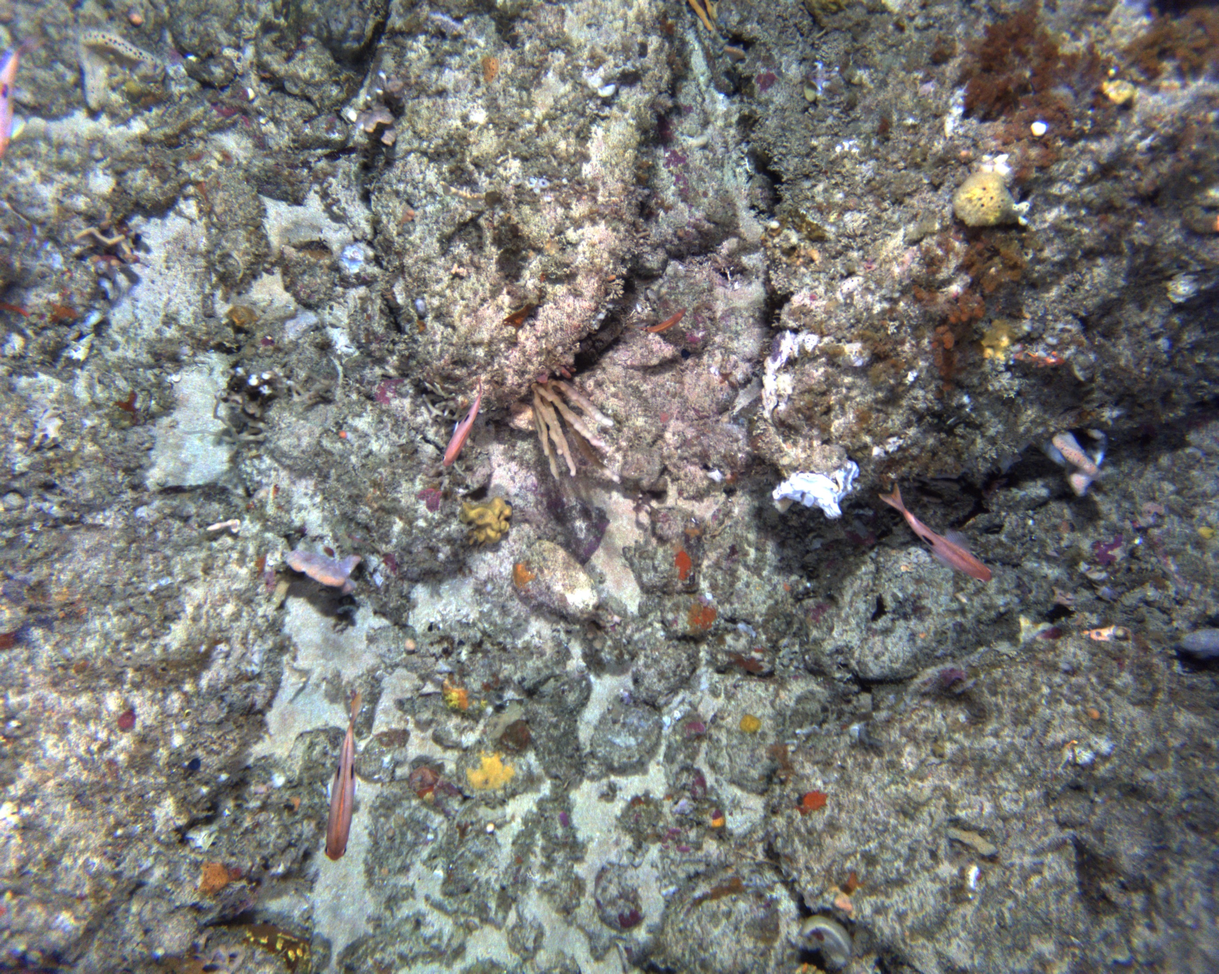Brachionichthyidae: (804, 61, 854, 98)
